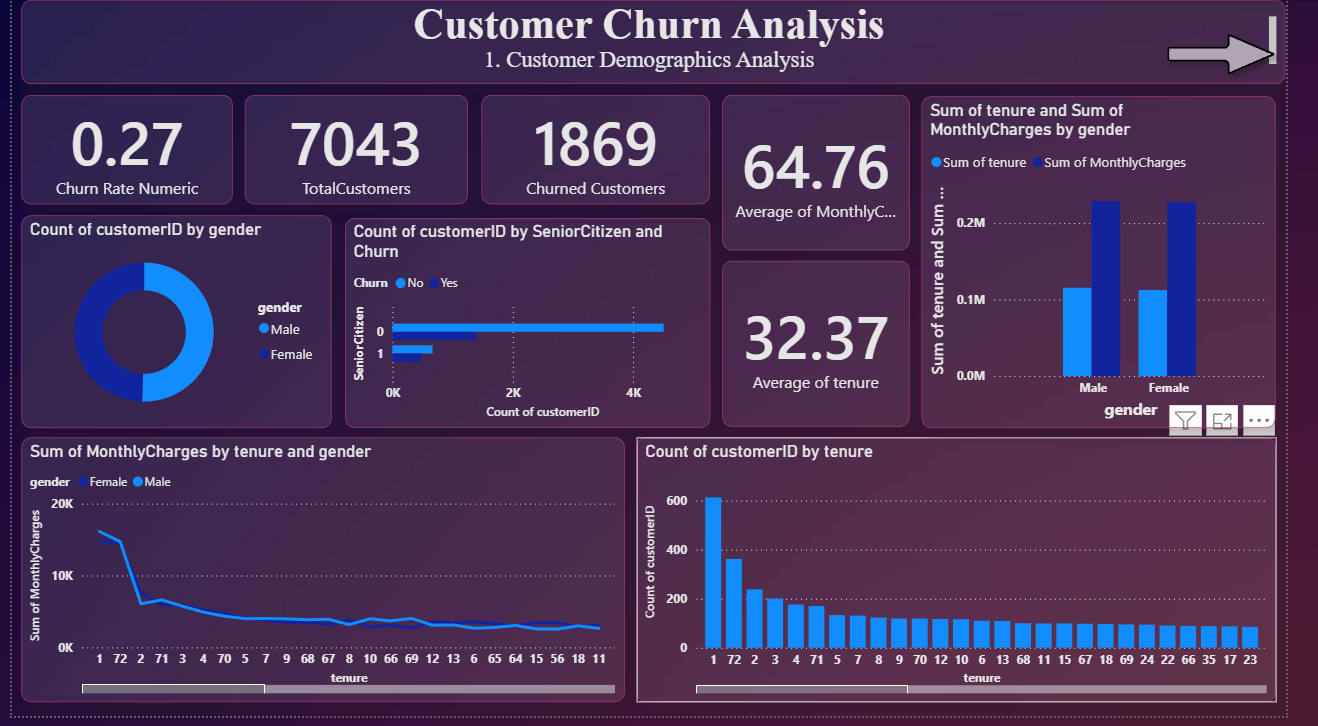

The dashboard page shown, as its layout file describes it:
{"tool":"powerbi","page":{"name":"Page 1","canvas":[1280,720],"ordinal":0},"visuals":[{"type":"textbox","box":[9.4,0,1270.3,84.7],"z":0},{"type":"card","fields":{"Values":["cca data set.Churn Rate Numeric"]},"box":[9.4,95.4,212.4,110.2],"z":1000},{"type":"card","fields":{"Values":["Avg(cca data set.MonthlyCharges)"]},"box":[713.8,95.4,188.2,155.9],"z":2000},{"type":"card","fields":{"Values":["Avg(cca data set.tenure)"]},"box":[713.8,262.1,188.2,166.7],"z":3000},{"type":"card","fields":{"Values":["cca data set.Churned Customers"]},"box":[471.8,95.4,229.9,110.2],"z":4000},{"type":"card","fields":{"Values":["cca data set.TotalCustomers"]},"box":[233.9,95.4,224.5,110.2],"z":5000},{"type":"donutChart","fields":{"Category":["cca data set.gender"],"Y":["CountNonNull(cca data set.customerID)"]},"box":[9.4,216.4,311.9,213.7],"z":6000},{"type":"clusteredBarChart","fields":{"Category":["cca data set.SeniorCitizen"],"Y":["CountNonNull(cca data set.customerID)"],"Series":["cca data set.Churn"]},"box":[334.7,219.1,367,211],"z":7000},{"type":"lineChart","fields":{"Category":["cca data set.tenure"],"Y":["Sum(cca data set.MonthlyCharges)"],"Series":["cca data set.gender"]},"box":[9.4,439.5,606.2,266.1],"z":8000},{"type":"clusteredColumnChart","fields":{"Category":["cca data set.tenure"],"Y":["CountNonNull(cca data set.customerID)"]},"box":[627.7,439.5,642.5,266.1],"z":9000},{"type":"clusteredColumnChart","fields":{"Y":["Sum(cca data set.tenure)","Sum(cca data set.MonthlyCharges)"],"Category":["cca data set.gender"]},"box":[914,96.8,356.2,333.4],"z":10000},{"type":"shape","box":[1153.2,11.7,127.3,61.5],"z":11000}]}

Visuals, with their boxes in screenshot pixels (x1, y1, x2, y2), scaled from the page's 1280x720 canvas onto the 1318x726 screenshot:
textbox: (x1=10, y1=0, x2=1317, y2=85)
card - cca data set.Churn Rate Numeric: (x1=10, y1=96, x2=228, y2=207)
card - Avg(cca data set.MonthlyCharges): (x1=735, y1=96, x2=929, y2=253)
card - Avg(cca data set.tenure): (x1=735, y1=264, x2=929, y2=432)
card - cca data set.Churned Customers: (x1=486, y1=96, x2=723, y2=207)
card - cca data set.TotalCustomers: (x1=241, y1=96, x2=472, y2=207)
donutChart - cca data set.gender x CountNonNull(cca data set.customerID): (x1=10, y1=218, x2=331, y2=434)
clusteredBarChart - cca data set.SeniorCitizen x CountNonNull(cca data set.customerID): (x1=345, y1=221, x2=723, y2=434)
lineChart - cca data set.tenure x Sum(cca data set.MonthlyCharges): (x1=10, y1=443, x2=634, y2=711)
clusteredColumnChart - cca data set.tenure x CountNonNull(cca data set.customerID): (x1=646, y1=443, x2=1308, y2=711)
clusteredColumnChart - Sum(cca data set.tenure) x Sum(cca data set.MonthlyCharges): (x1=941, y1=98, x2=1308, y2=434)
shape: (x1=1187, y1=12, x2=1317, y2=74)
